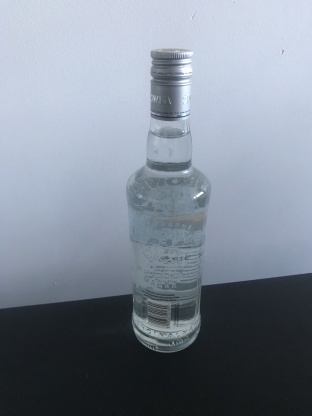nakretka: (148, 47, 194, 121)
